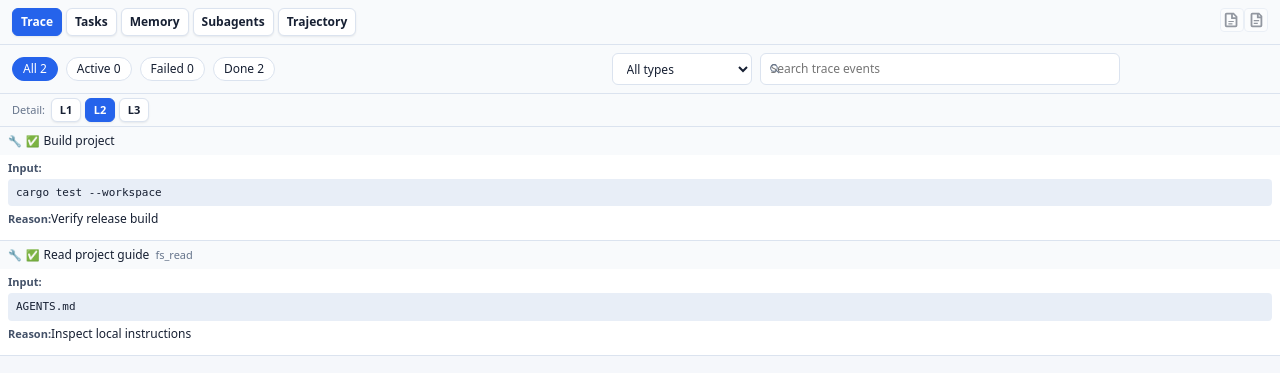
Test: TraceTimeline › filters visible trace entries by title, tool id, reason, and input
The width and height of the screenshot is (1280, 373).
Type "cargo test" into the search field with test id "trace-search-input" at (940, 69), box top-left (760, 53), bottom-right (1120, 85)
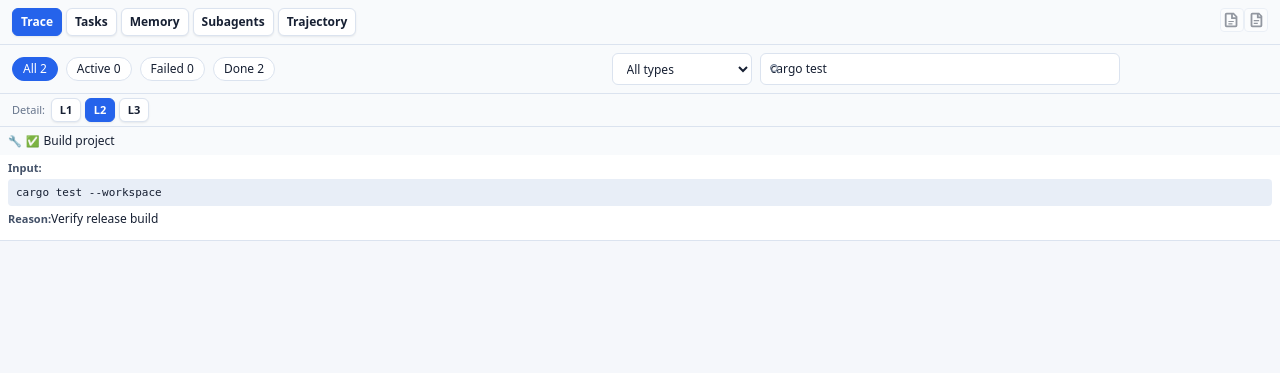
Expected: the text "Build project" is shown, top-left (43, 132), bottom-right (115, 149)
Expected: the text "Read project guide" is gone
Replace the text in the search field with test id "trace-search-input" with "fs_read" at (940, 69), box top-left (760, 53), bottom-right (1120, 85)
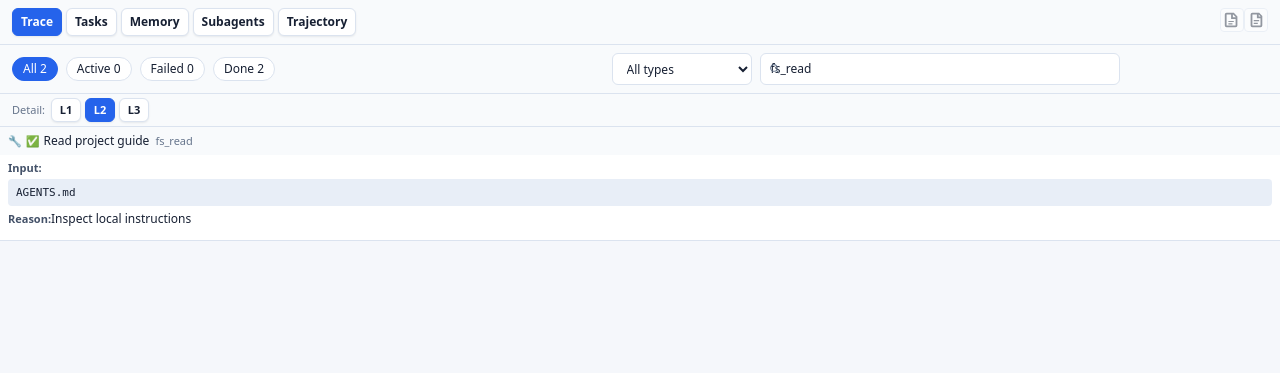
Expected: the text "fs_read" is shown, top-left (155, 133), bottom-right (193, 148)
Expected: the text "Build project" is gone
